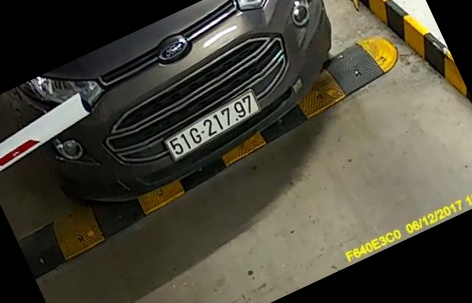plate: (161, 89, 263, 159)
